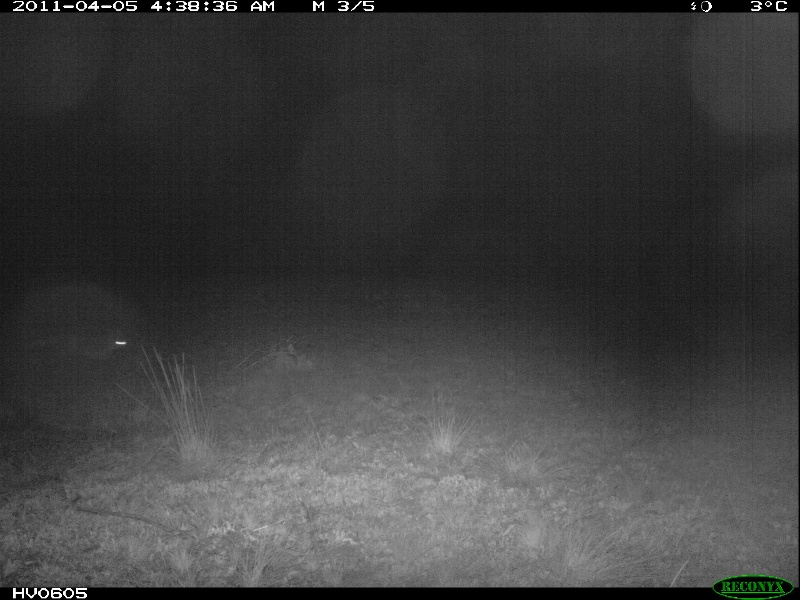fox: (24, 323, 133, 362)
